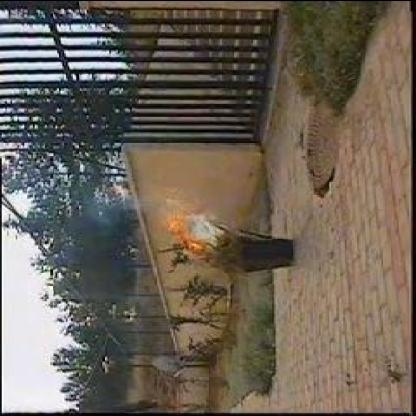-: (190, 216, 216, 242)
foggia-v2-map80-epoch100 - v1 4323: (162, 216, 183, 240)
